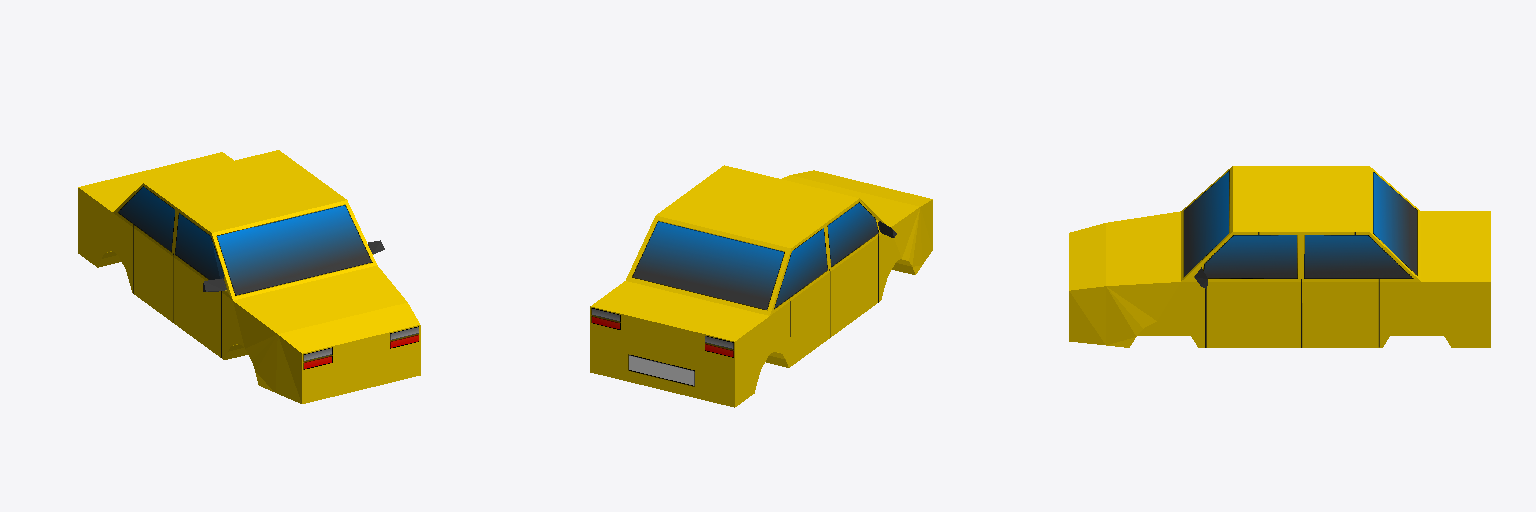
3 renders of one model, left to right at view 1: azimuth 30°, elevation 25°; view 2: azimuth 150°, elevation 25°; view 3: azimuth 270°, elevation 25°, orthographic.
Parts seen in each view (by area): view 1: Cube1; view 2: Cube1; view 3: Cube1.
Boxes of the visible parts, x1=… form: Cube1: x1=78, y1=150, x2=420, y2=403; Cube1: x1=590, y1=165, x2=932, y2=407; Cube1: x1=1069, y1=166, x2=1490, y2=347.
Size of the model in its own units: 2.48 by 1.5 by 5.06.
Materials: 1 (1 with a texture image).